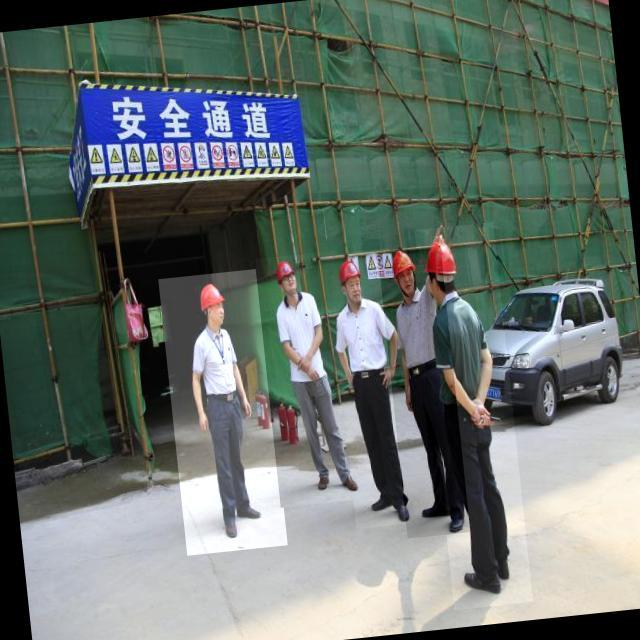Helmet: (422, 238, 459, 275), (200, 282, 228, 313), (390, 248, 416, 280), (338, 259, 361, 286), (274, 260, 297, 285)
Person: (419, 229, 516, 600), (175, 269, 266, 564), (337, 249, 398, 538), (269, 253, 330, 499)
Safety Boot: (465, 569, 504, 598), (237, 504, 263, 521), (421, 504, 449, 519), (340, 473, 359, 494), (370, 495, 392, 512), (225, 515, 240, 539), (448, 515, 465, 533), (396, 502, 411, 522), (316, 476, 331, 491)
bare-arms: (467, 396, 499, 432), (293, 352, 325, 384), (190, 409, 214, 436), (402, 376, 418, 415), (378, 366, 399, 395), (239, 398, 257, 422), (342, 368, 356, 392)
no-vest: (439, 293, 493, 416), (276, 303, 330, 384), (337, 304, 393, 374), (190, 329, 243, 399), (400, 294, 437, 376)
